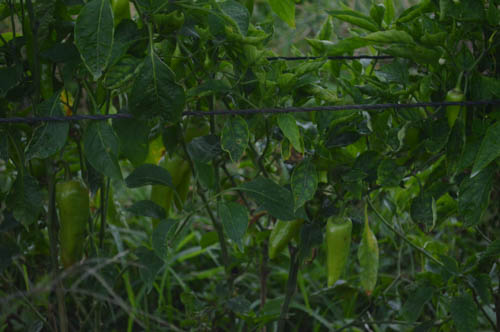ChiliPepper: (56, 181, 90, 264), (146, 156, 186, 221), (319, 222, 348, 281), (266, 219, 303, 259), (444, 91, 462, 127)
